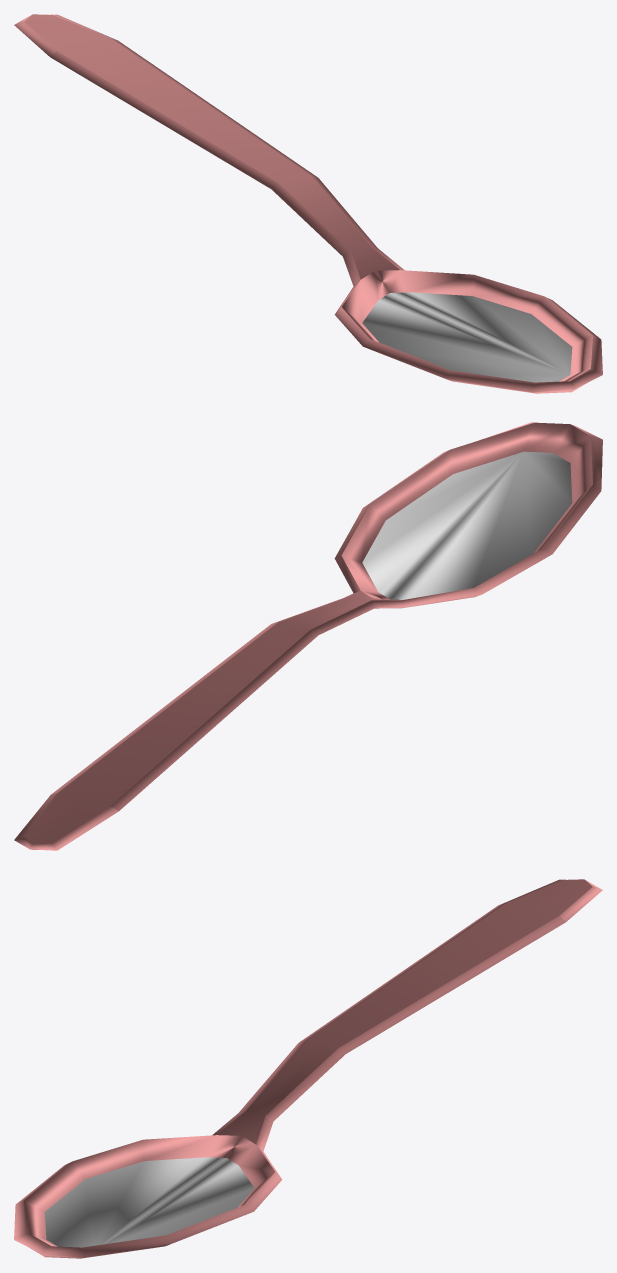
The model's file is filled_spoon.fbx.
The picture shows the model from 3 angles, top to bottom: view 1: azimuth 30°, elevation 25°; view 2: azimuth 150°, elevation 25°; view 3: azimuth 330°, elevation 25°; orthographic projection.
Visible parts, largest first — view 1: TFYK_spoon; view 2: TFYK_spoon; view 3: TFYK_spoon.
Boxes of the visible parts, left/top/right/bottom form: TFYK_spoon: left=14, top=14, right=602, bottom=393; TFYK_spoon: left=14, top=422, right=602, bottom=850; TFYK_spoon: left=14, top=879, right=602, bottom=1258.
Size of the model in its own units: 2.98 by 1.06 by 14.81.
